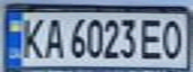0: (84, 16, 106, 60)
2: (103, 16, 124, 60)
3: (118, 16, 142, 60)
6: (66, 15, 87, 60)
A: (39, 15, 66, 60)
E: (136, 16, 169, 61)
K: (15, 15, 48, 61)
O: (157, 17, 187, 61)
